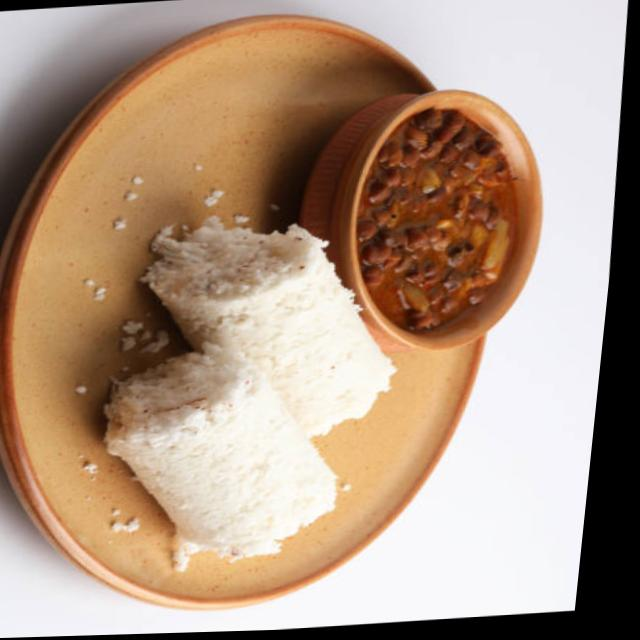CURRY: (354, 107, 514, 332)
PUTTU: (100, 215, 393, 564)
